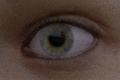eye: (39, 23, 73, 56)
